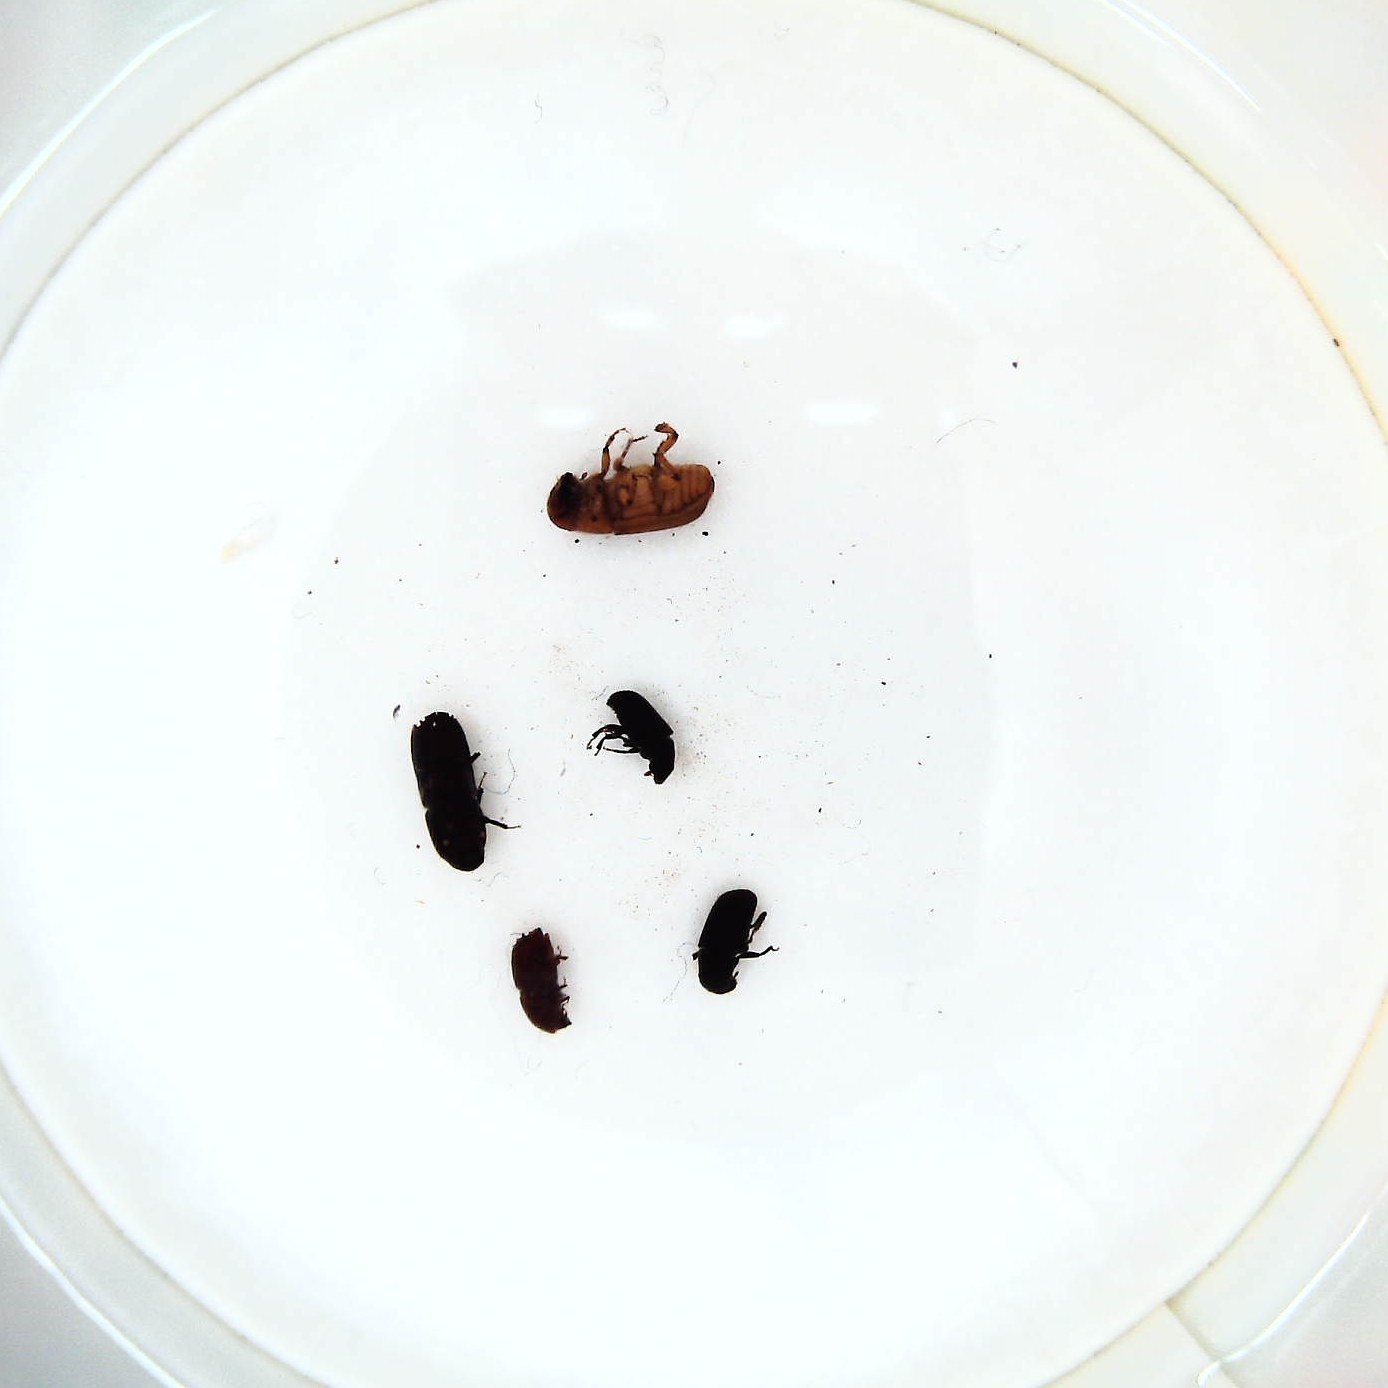Boerner: (408, 711, 500, 876)
Leconte: (541, 422, 716, 539)
armandi: (690, 886, 777, 998)
coleoptera: (581, 686, 676, 788)
linnaeus: (505, 922, 573, 1037)
